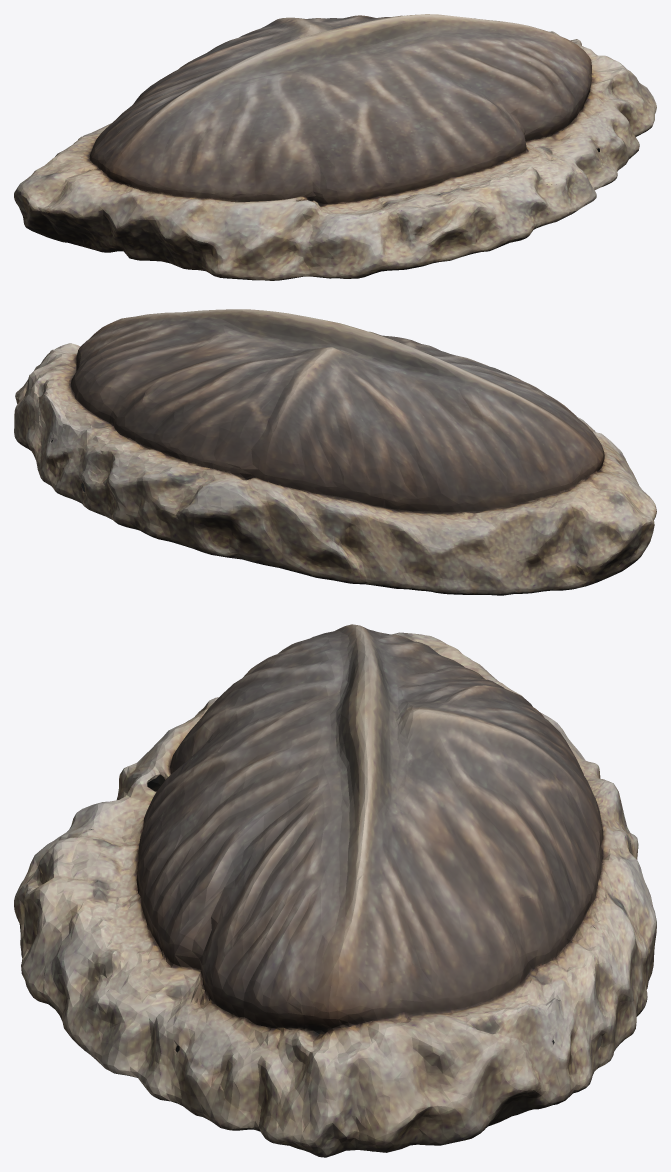
The picture shows the model from 3 angles, top to bottom: view 1: azimuth 30°, elevation 25°; view 2: azimuth 150°, elevation 25°; view 3: azimuth 270°, elevation 25°; orthographic projection. The views are drawn at different scales.
Parts seen in each view (by area): view 1: world; view 2: world; view 3: world.
Part boxes in pixels (bbox=[...]): world: bbox=[14, 14, 656, 280]; world: bbox=[14, 309, 656, 595]; world: bbox=[14, 624, 656, 1157].
Bounding box in the file's own units: 1.11 × 0.278 × 0.6662.
1 material, 1 textured.
